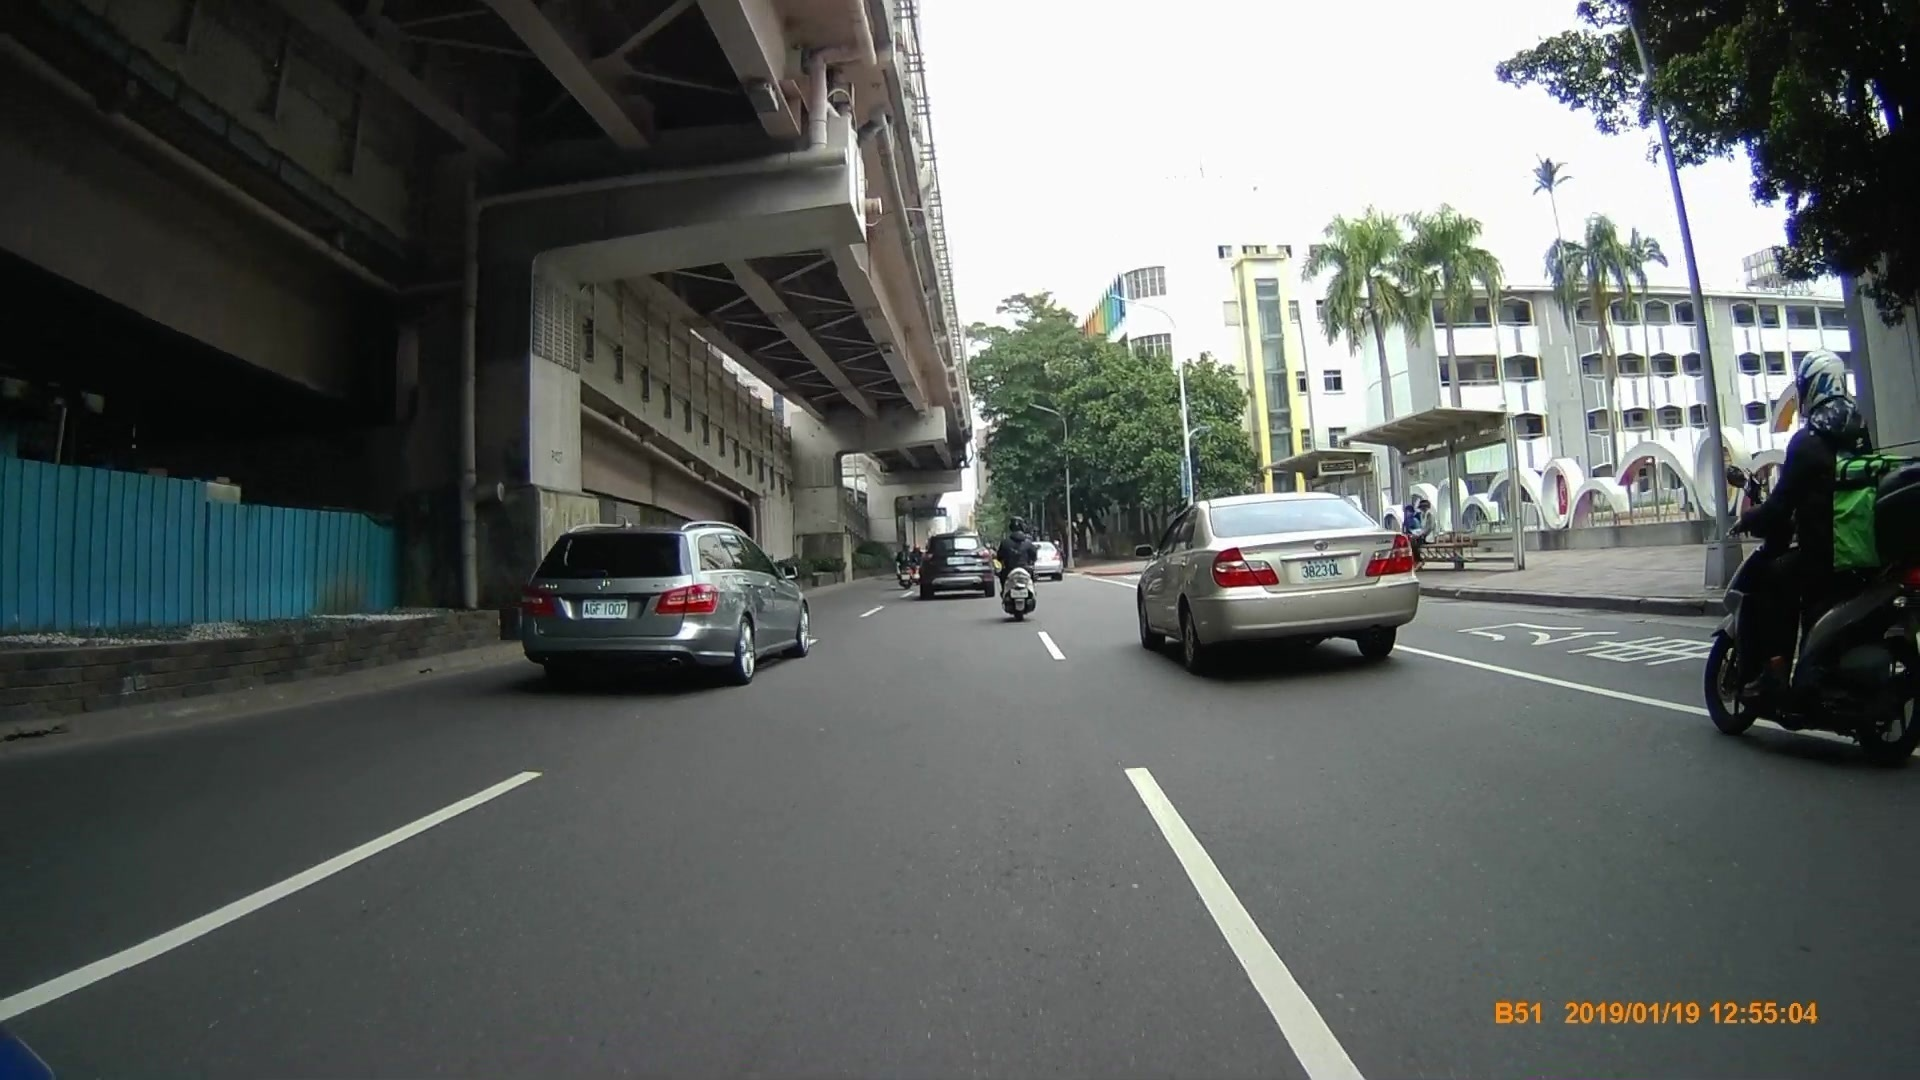License_plate: (1299, 554, 1349, 585), (578, 593, 629, 621)
